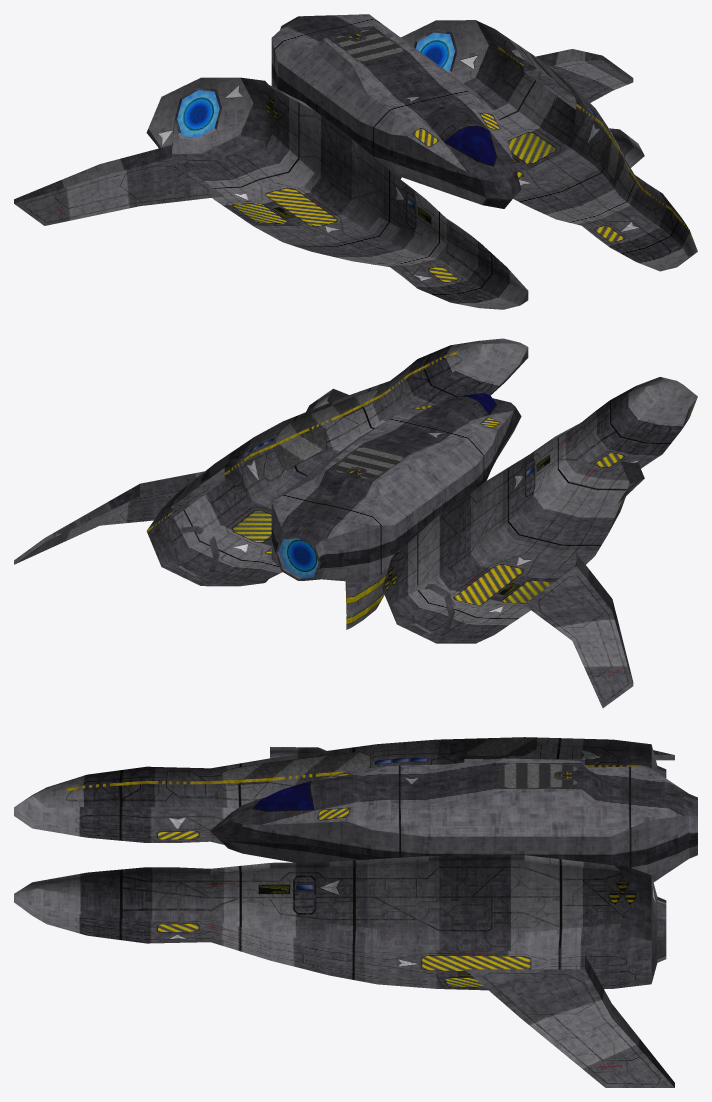
File: llama.gltf
3 views of the same model, one above another, from view 1: azimuth 30°, elevation 25°; view 2: azimuth 150°, elevation 25°; view 3: azimuth 270°, elevation 25° (orthographic). The views are drawn at different scales.
Parts seen in each view (by area): view 1: catamaran_glow, body_glow; view 2: catamaran_glow, body_glow; view 3: catamaran_glow, body_glow.
Part boxes in pixels (bbox=[...]): catamaran_glow: bbox=[14, 20, 697, 309]; body_glow: bbox=[271, 14, 521, 208]; catamaran_glow: bbox=[14, 338, 697, 707]; body_glow: bbox=[271, 393, 521, 629]; catamaran_glow: bbox=[14, 737, 674, 1087]; body_glow: bbox=[210, 758, 697, 882].
Size of the model in its own units: 6.57 by 1.61 by 5.79.
Materials: 2 (2 with a texture image).
